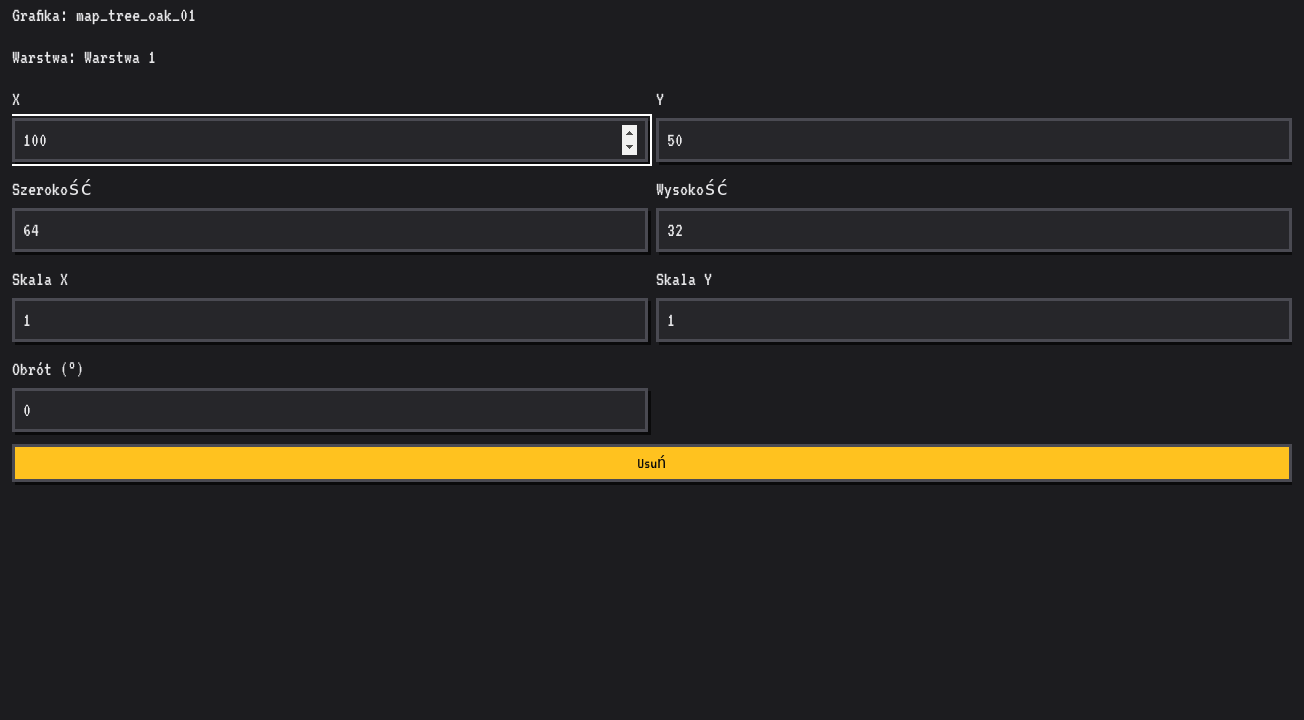
Test case: changes the object while typing, in one undo step, and shows an error on collision
The image size is (1304, 720).
Later steps or results of the test are not shown.
Replace the text in the number field labelled "X" with "15" at (330, 140), box [12,118,648,162]
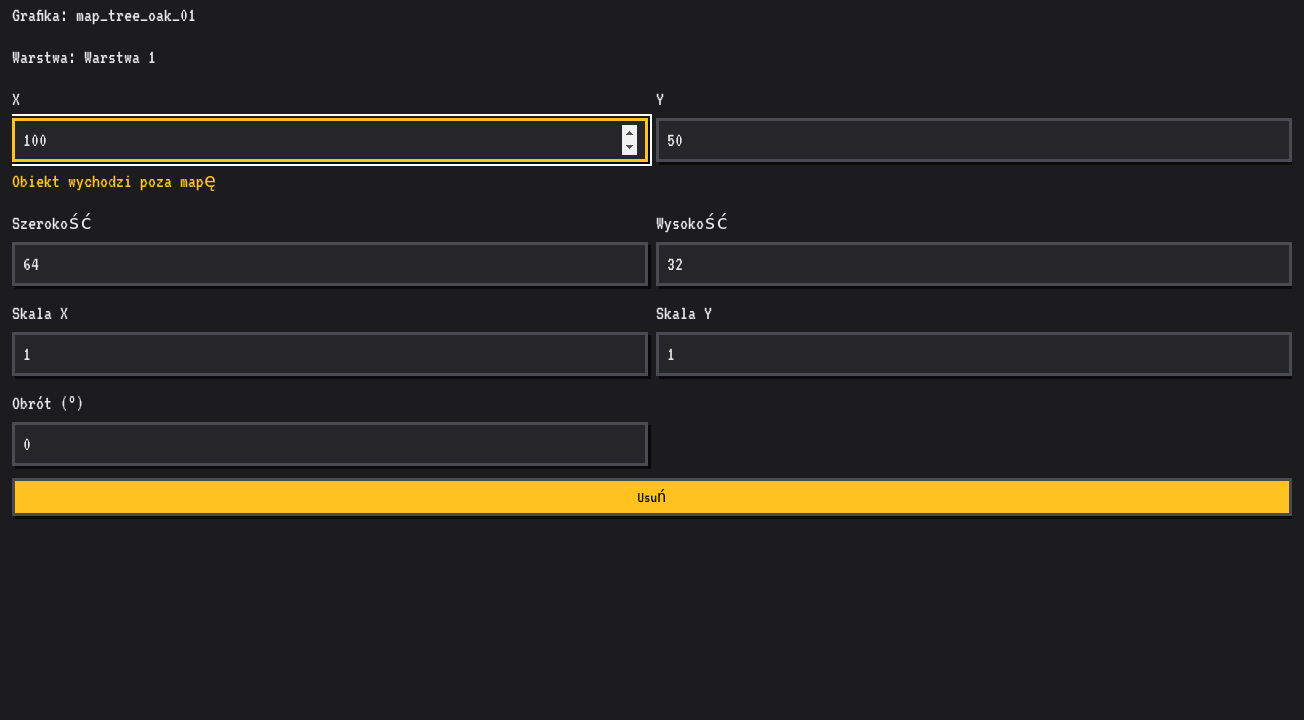
Replace the text in the number field labelled "X" with "150" at (330, 140), box [12,118,648,162]
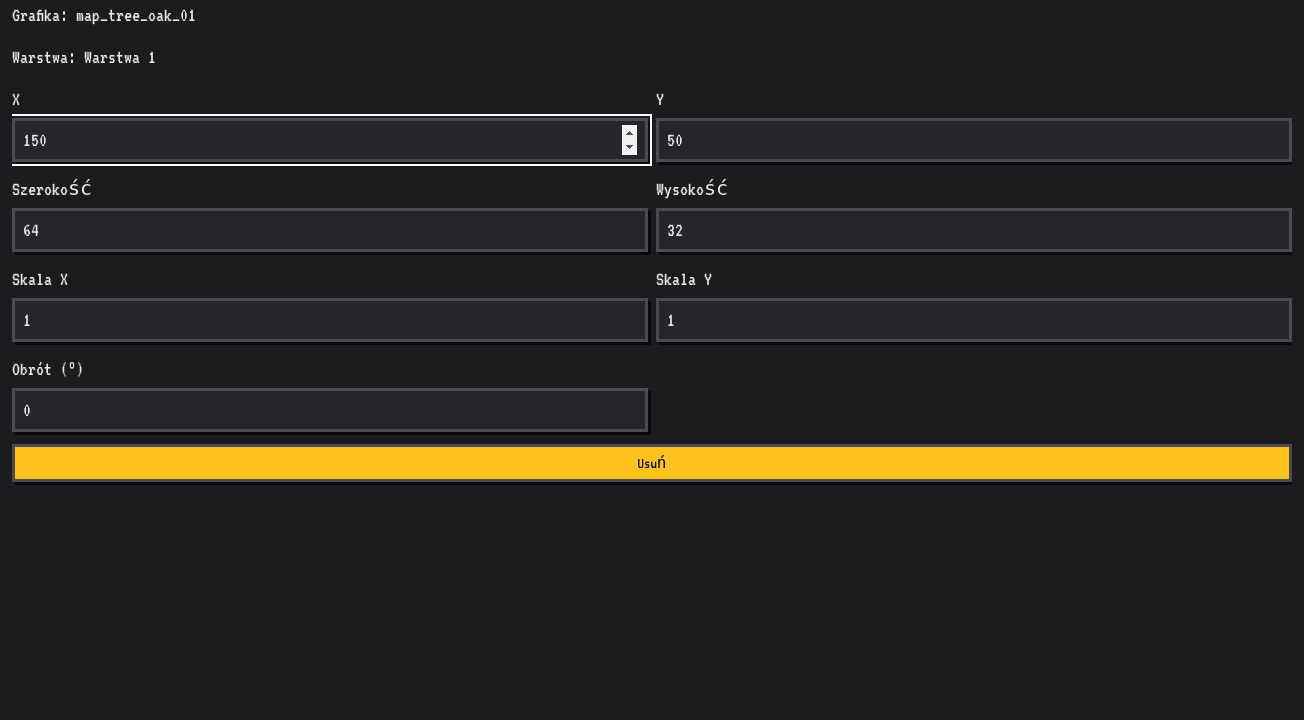
Replace the text in the number field labelled "X" with "300" at (330, 140), box [12,118,648,162]
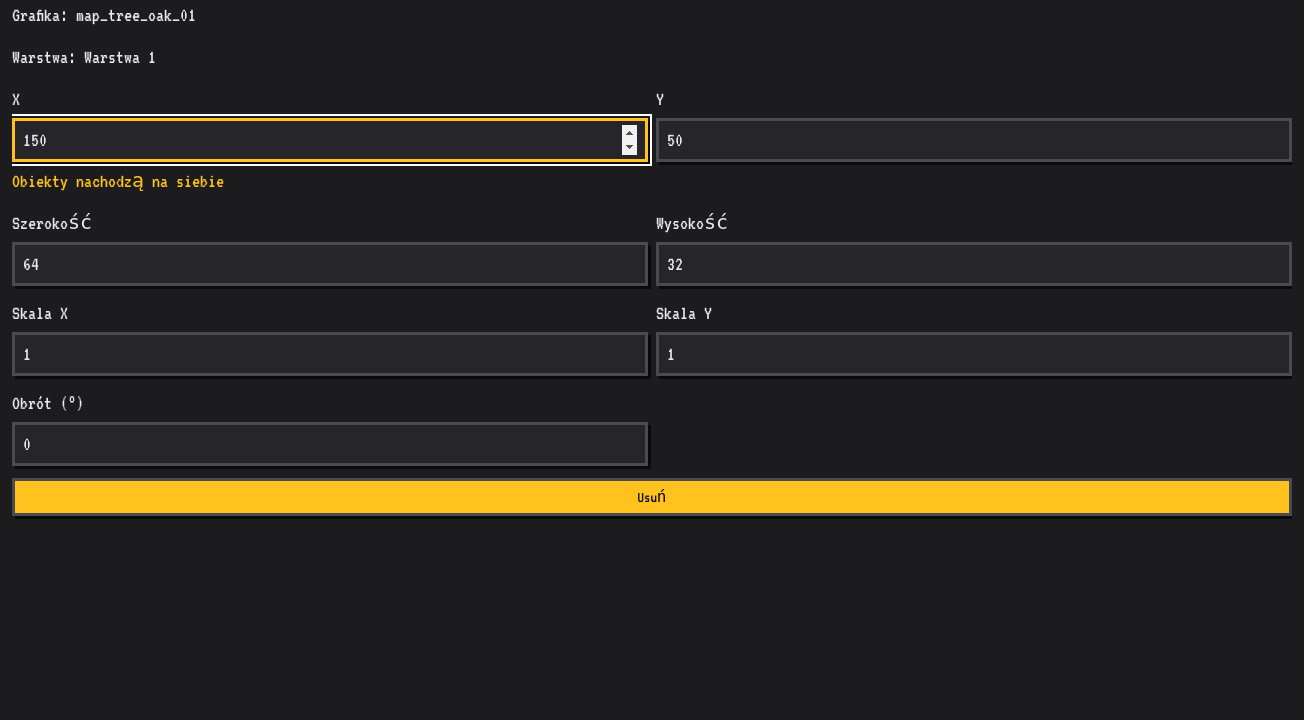
Result: the text "Obiekty nachodzą na siebie" is shown at [12,171,224,191]
